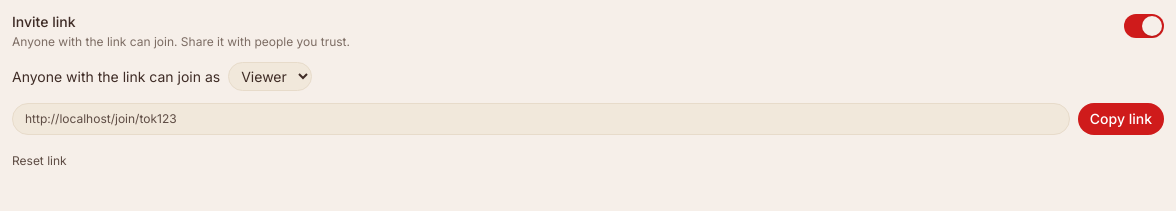
JoinLinkControls — on › says why a switch didn't flip
Step 1. Click the switch → (1144, 26), box x1=1124 y1=14 x2=1164 y2=38
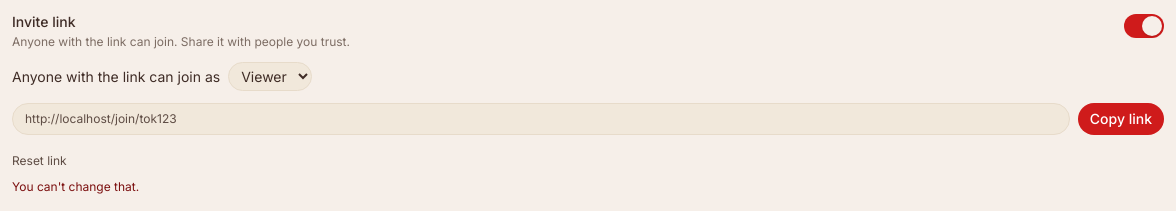
expect the message reads "You can't change that.": met, box x1=12 y1=179 x2=139 y2=194
